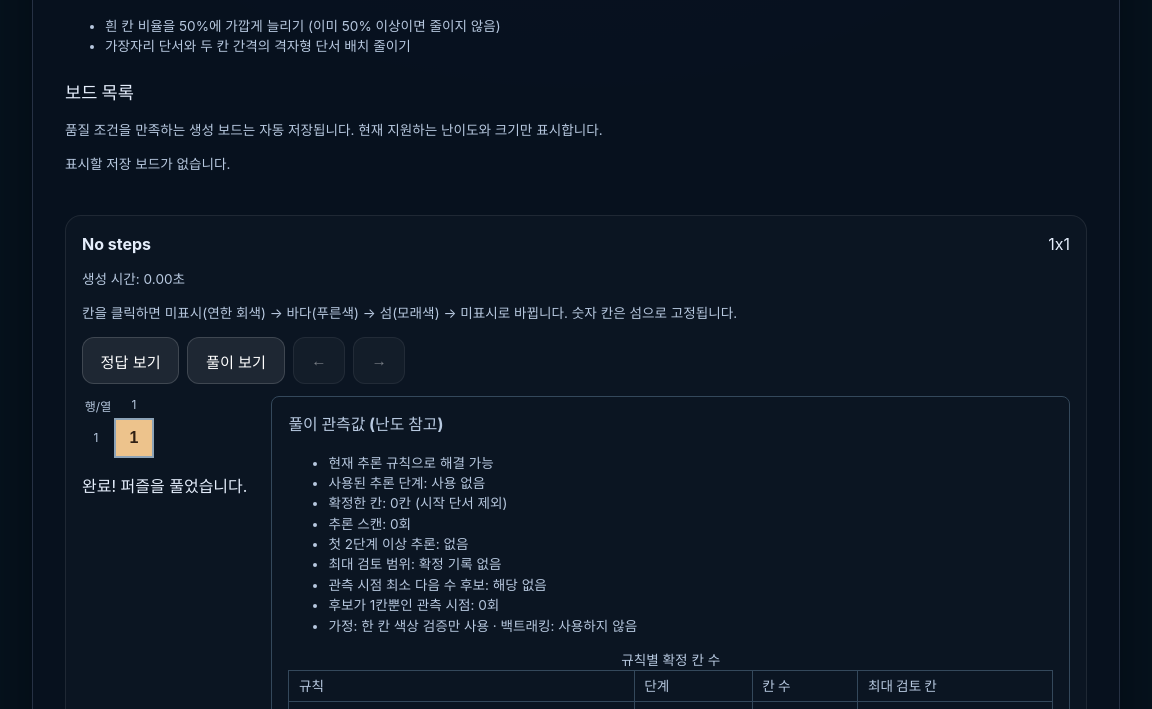
Scenario: App › handles a puzzle with no deduction records without enabling playback arrows
(page scrolled)
Expected: the element named "퍼즐 보드" is shown, x1=114 y1=418 x2=154 y2=458
Click the button "풀이 보기".
click(236, 361)  # box x1=187 y1=337 x2=285 y2=384
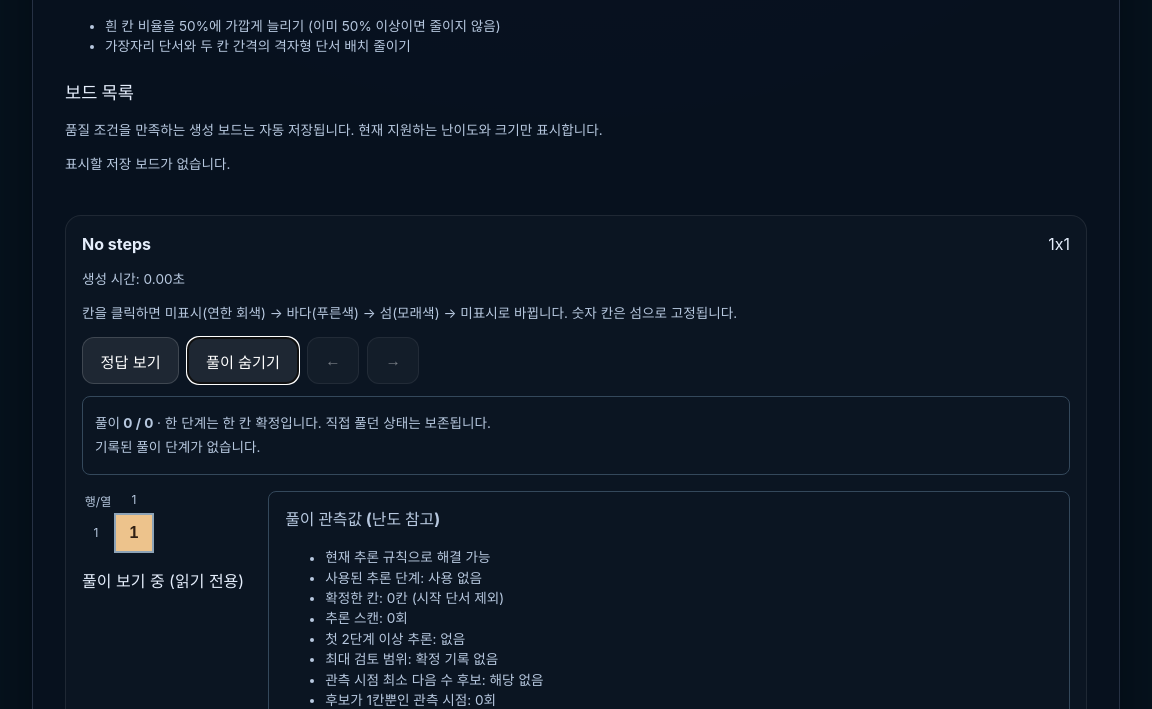
Expected: the button named "이전 풀이 단계" is disabled, x1=307 y1=337 x2=359 y2=384
Expected: the element named "현재 풀이 단계" shows "기록된 풀이 단계가 없습니다.", x1=95 y1=439 x2=260 y2=455
